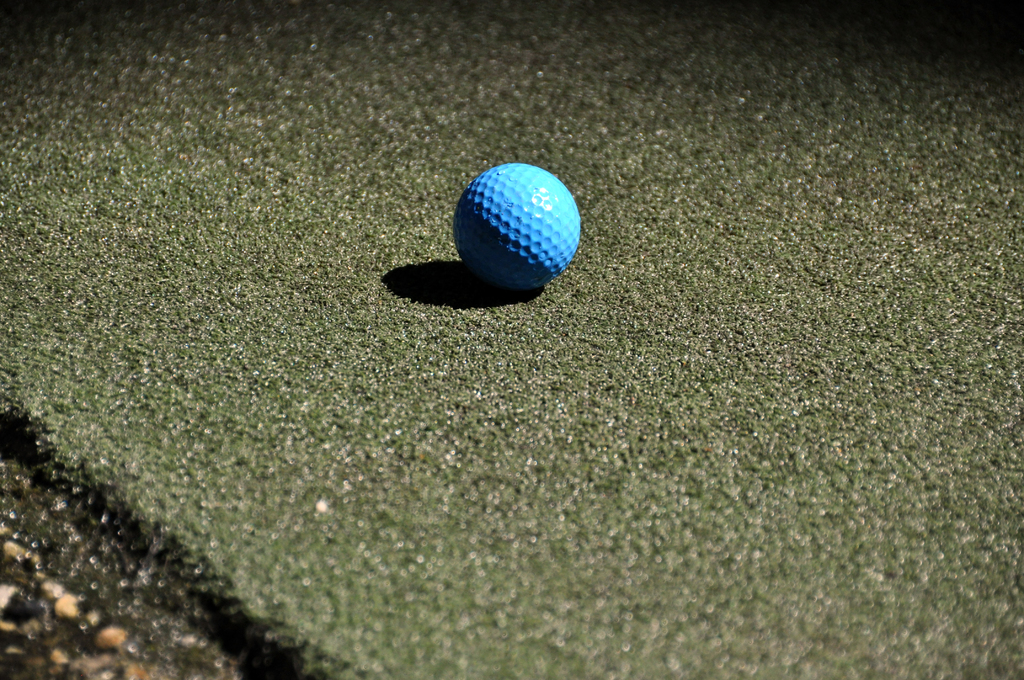Ball: (452, 161, 582, 291)
